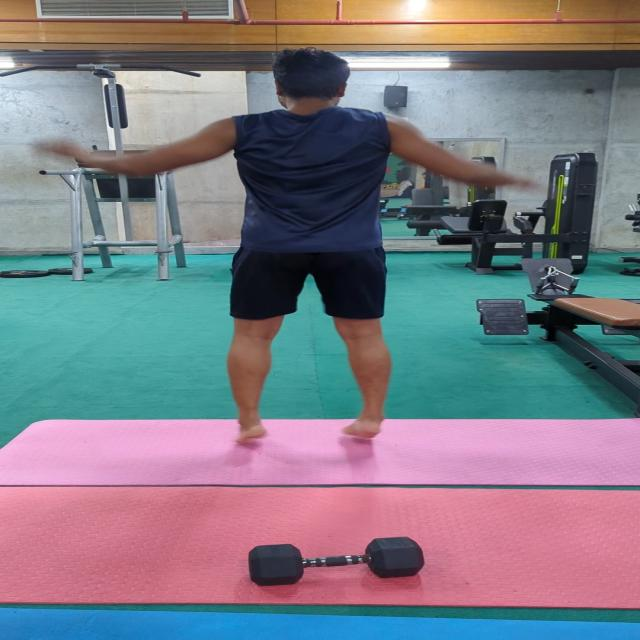Normal_JumpingJacks: (49, 47, 524, 450)
